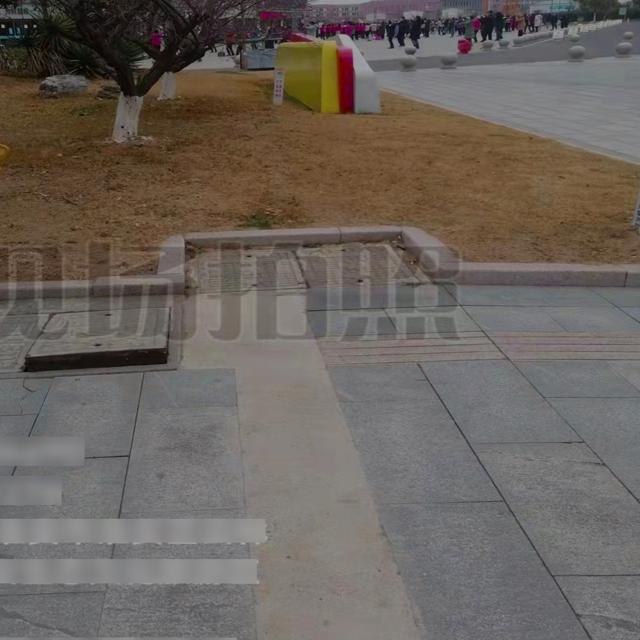uncovered: (0, 309, 185, 379)
